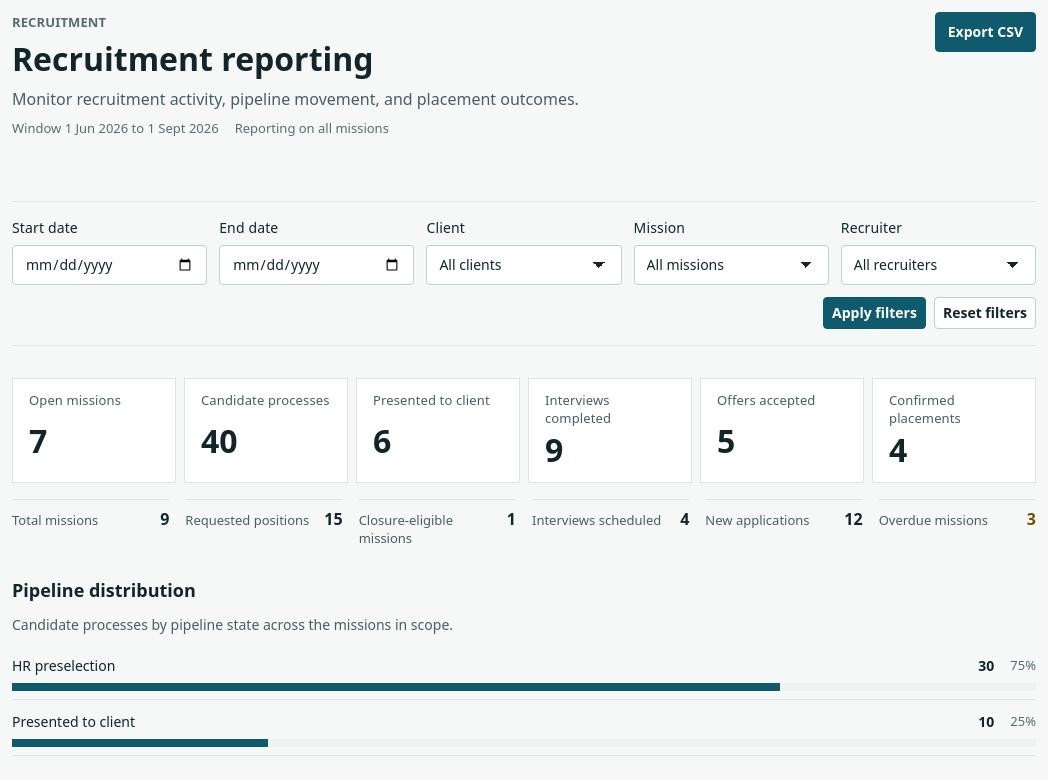
Test: recruitment reporting dashboard › exports with the filter controls as they stand, without applying or reloading
# Edit two controls but never press Apply.
In the date field labelled "Start date": (110, 265) [12,245,207,285], type "2026-07-01"
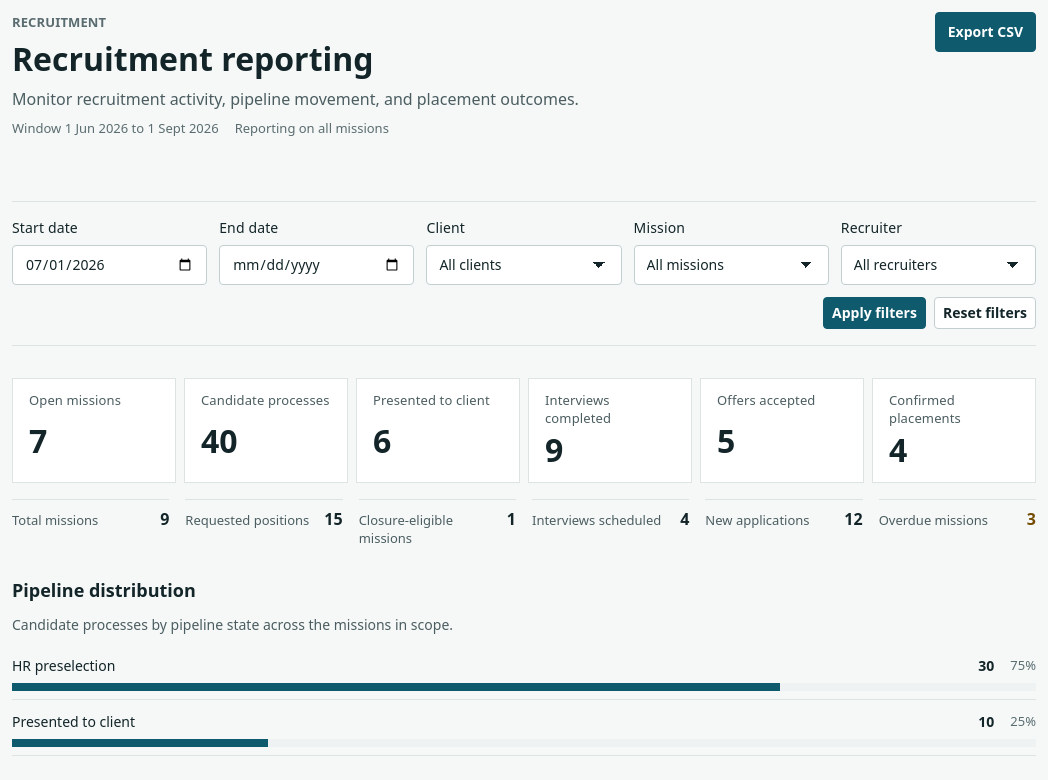
Select "Atlas Industries" in the dropdown labelled "Client": (524, 265) [426,245,622,285]
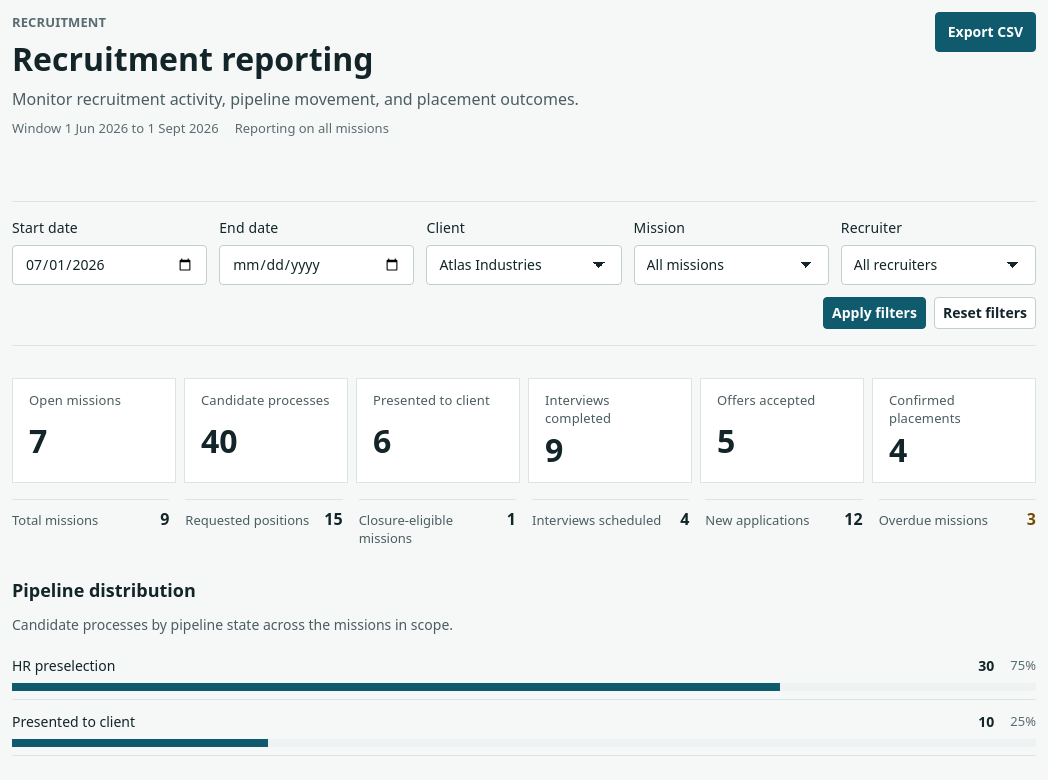
Click the button "Export CSV": (985, 32) [935,12,1036,52]
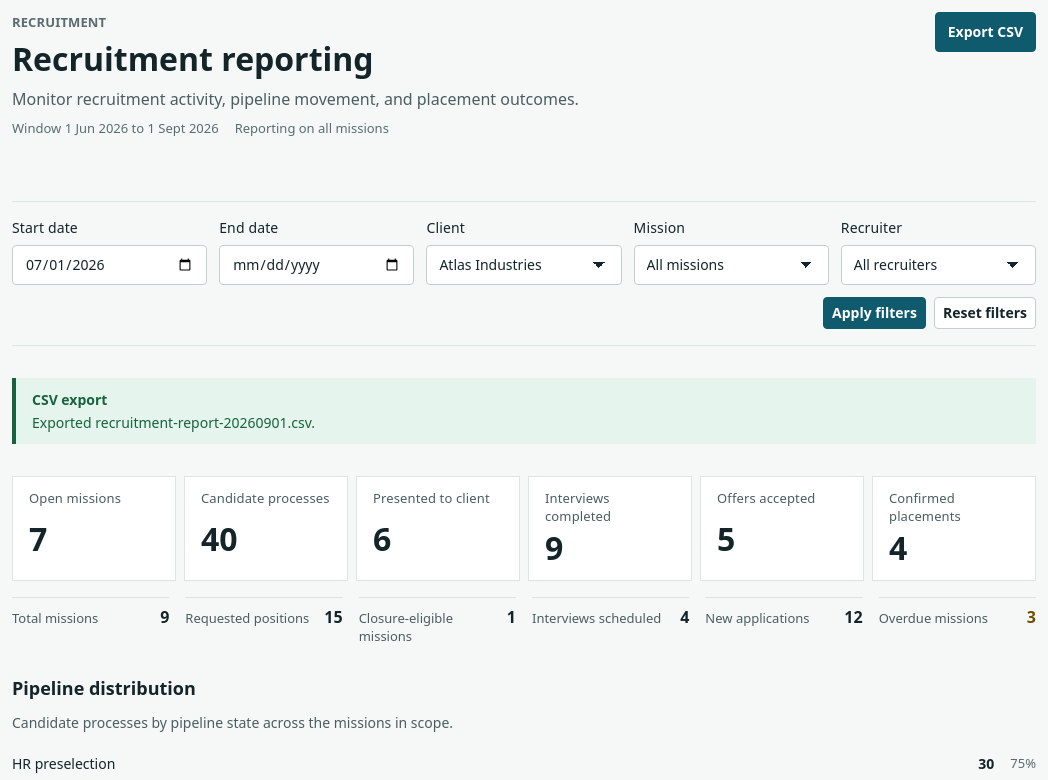
expect the text "Window 1 Jun 2026 to 1 Sept 2026" is shown: met, box [12,119,219,137]
expect the message shows "Exported recruitment-report-20260901.csv.": met, box [32,413,315,432]
